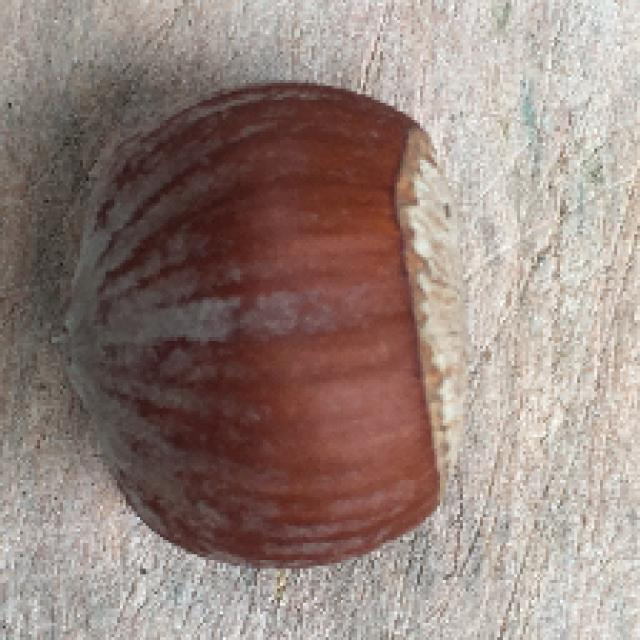qualityHazelnut: (62, 80, 464, 571)
